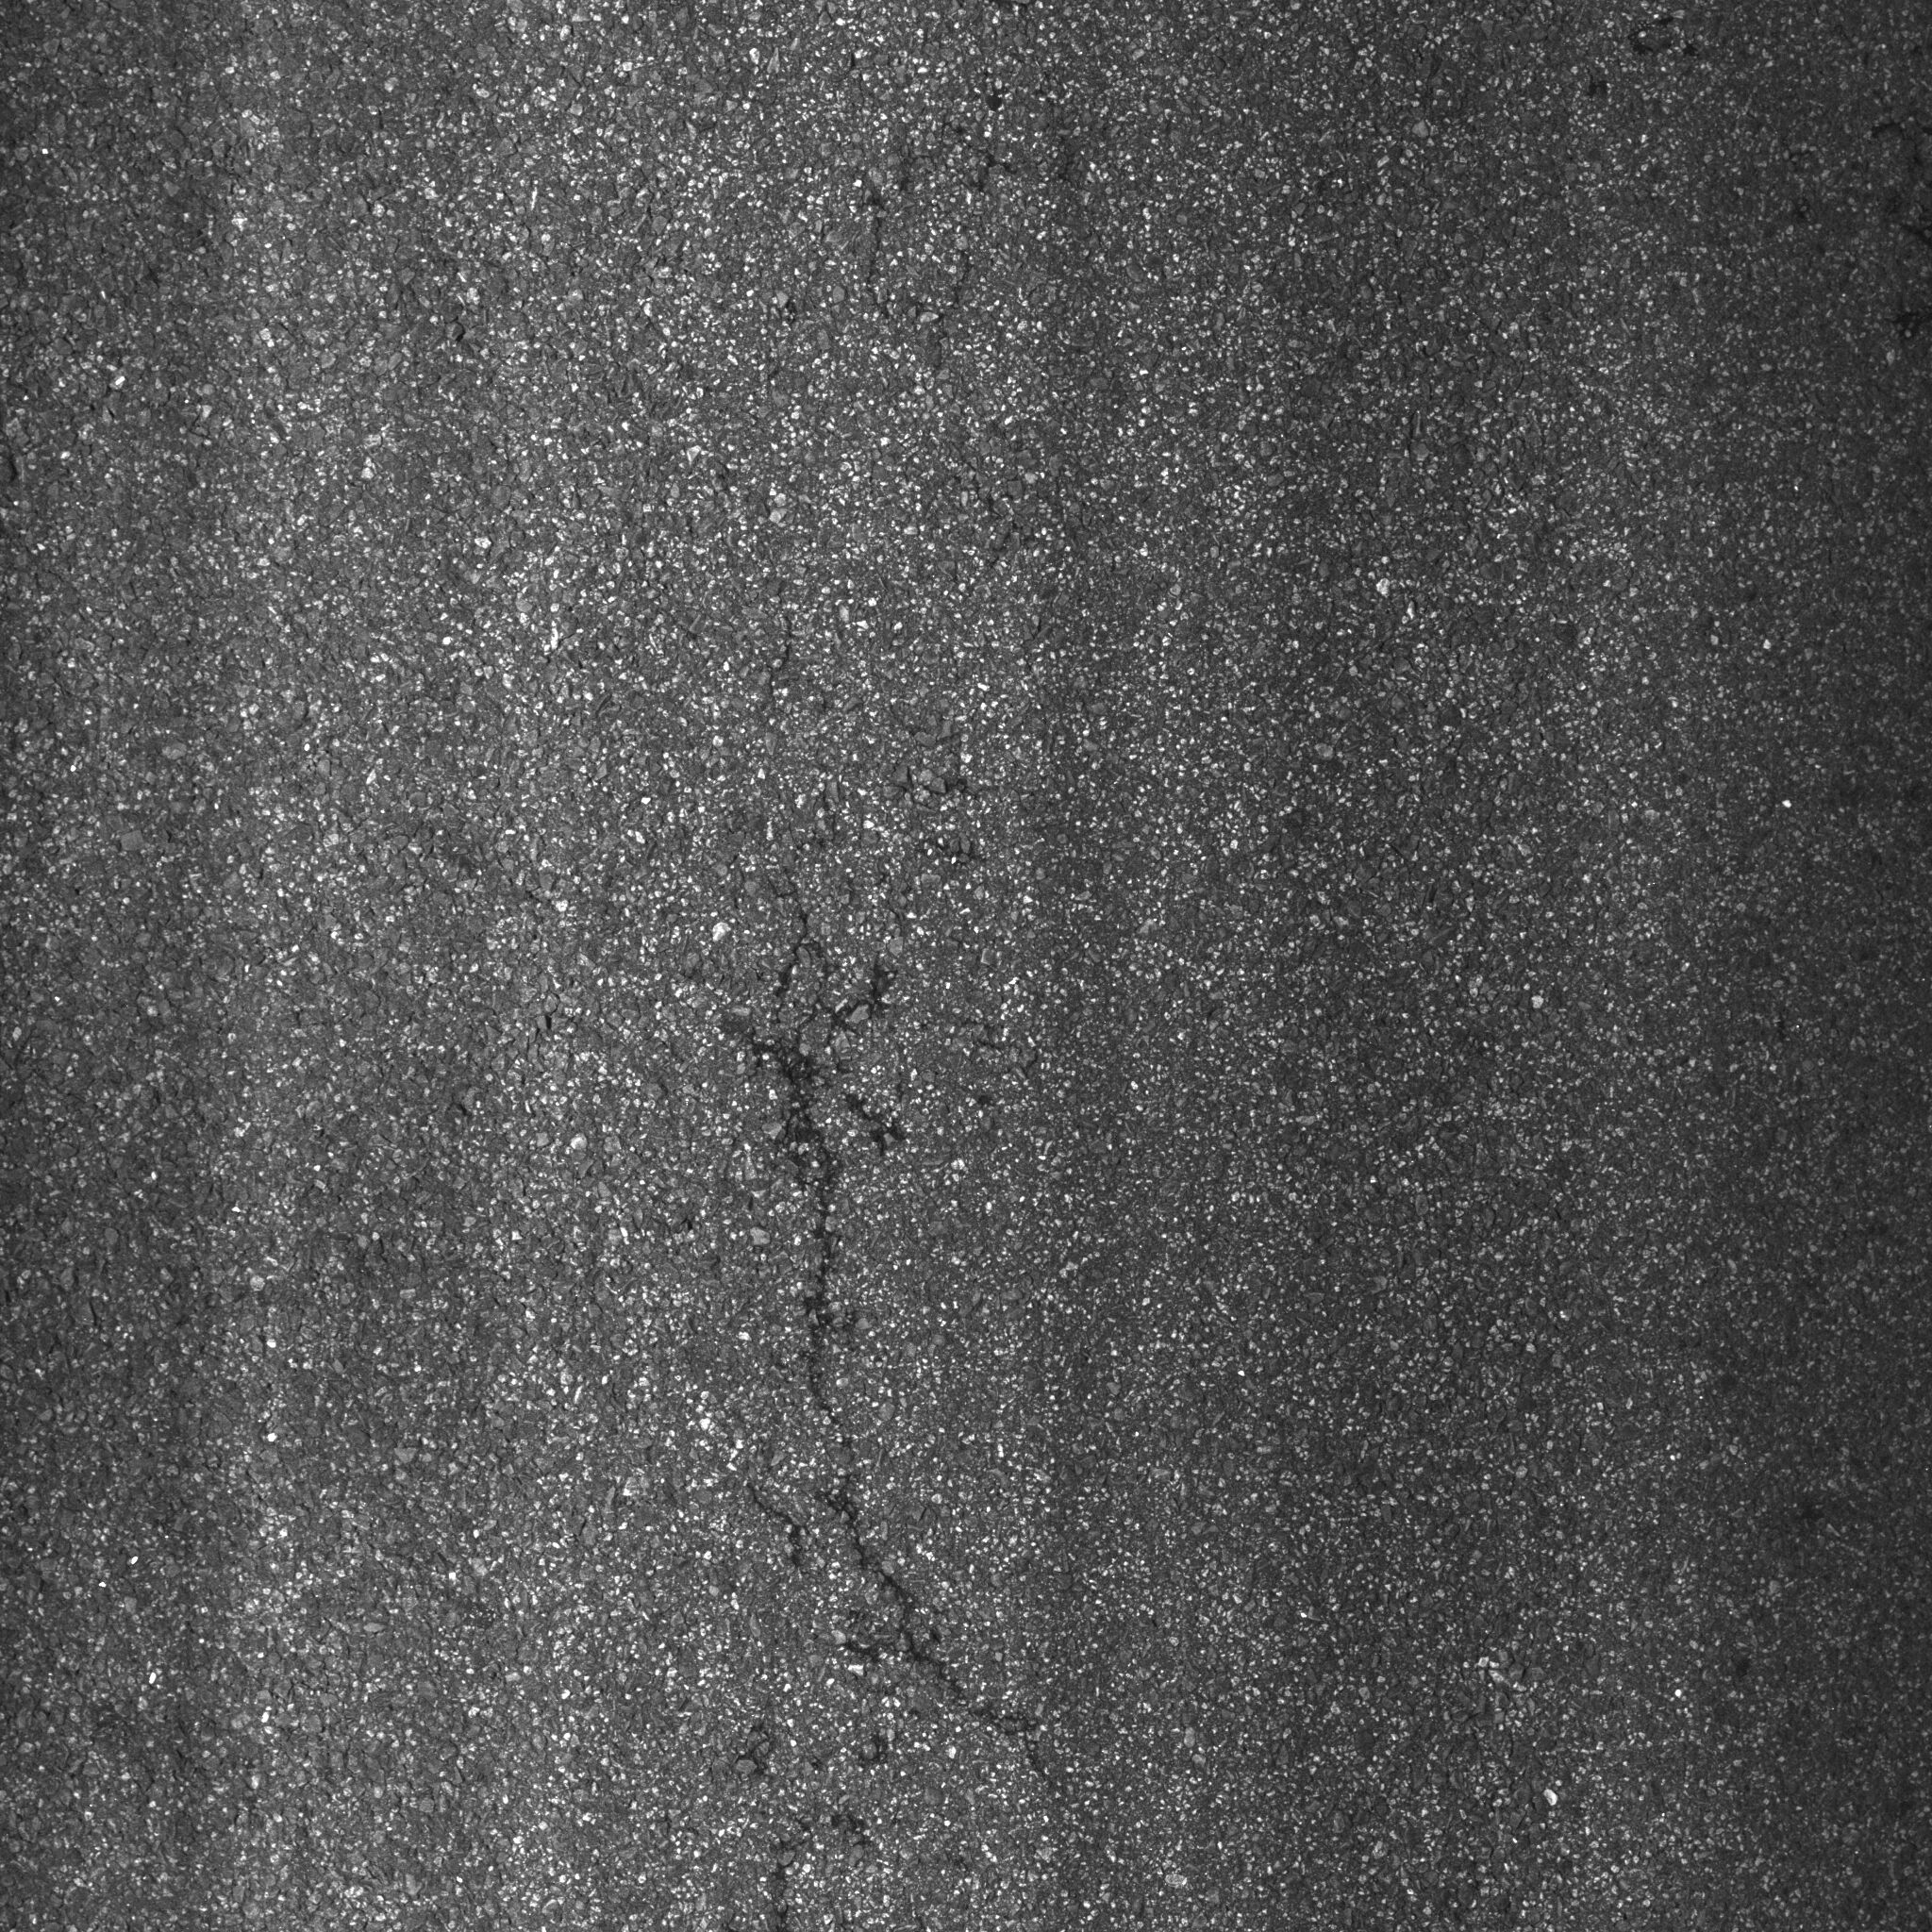longitudinal: (725, 842, 1031, 1913)
